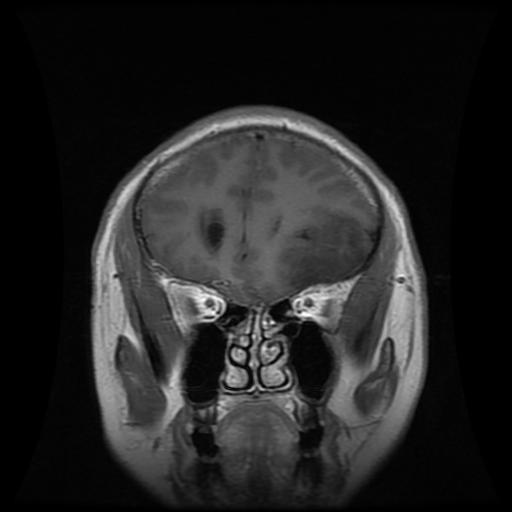Gliomia_tumour: (280, 207, 372, 289)
